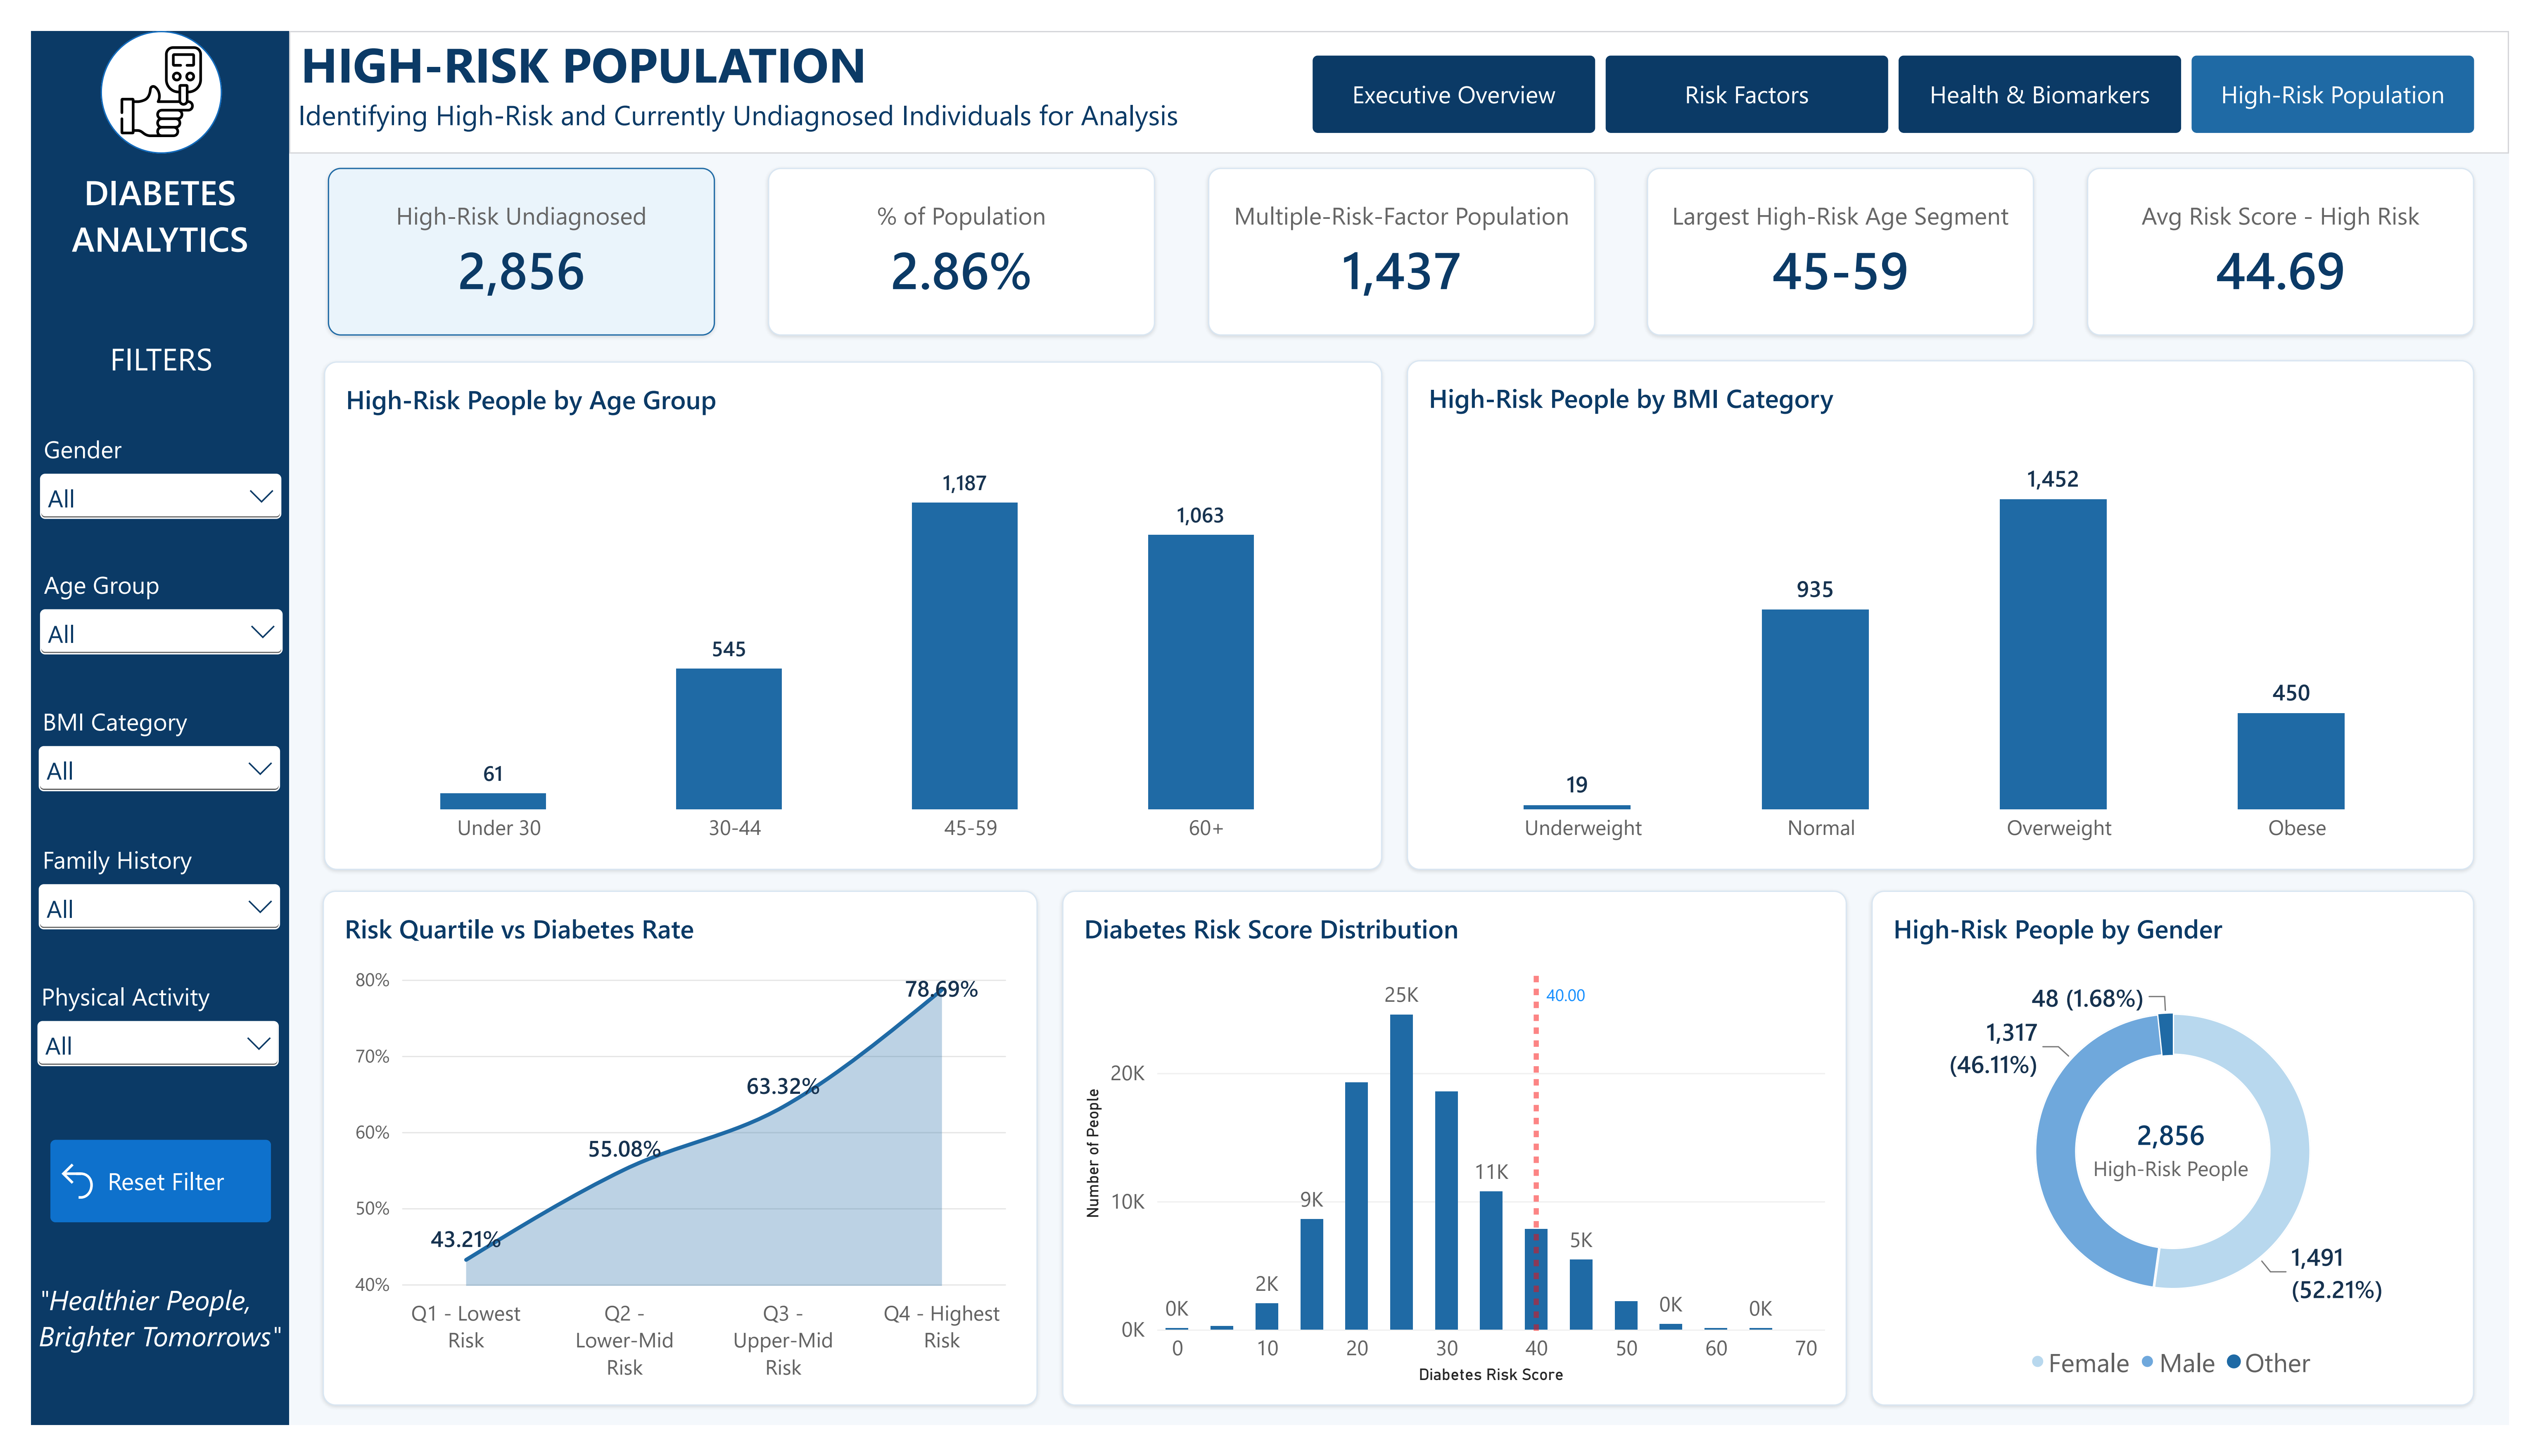

The dashboard page shown, as its layout file describes it:
{"tool":"powerbi","page":{"name":"High-Risk Population","canvas":[1920,1080],"ordinal":3},"visuals":[{"type":"shape","box":[200.3,0,1719.7,95],"z":0},{"type":"shape","box":[0,0,200.3,1079.7],"z":1000},{"type":"cardVisual","fields":{"Data":["_Measures.High-Risk Undiagnosed"]},"box":[230.3,106.5,300,130],"z":2000},{"type":"cardVisual","fields":{"Data":["_Measures.% of Population"]},"box":[571,106.5,300,130],"z":3000},{"type":"cardVisual","fields":{"Data":["_Measures.Multiple-Risk-Factor Population"]},"box":[911.6,106.5,300,130],"z":4000},{"type":"cardVisual","fields":{"Data":["_Measures.Avg Risk Score - High Risk"]},"box":[1592.9,106.5,300,130],"z":5000},{"type":"cardVisual","fields":{"Data":["_Measures.Largest High-Risk Age Segment"]},"box":[1252.3,106.5,300,130],"z":6000},{"type":"textbox","box":[209,0,687.1,50.3],"z":7000},{"type":"textbox","box":[207.1,50.3,739.4,34.8],"z":8000},{"type":"slicer","fields":{"Values":["DiabetesData.gender"]},"box":[1.5,311.3,197.4,71.6],"z":9000},{"type":"slicer","fields":{"Values":["DiabetesData.Age Group"]},"box":[2.1,416.2,198.2,72.3],"z":10000},{"type":"slicer","fields":{"Values":["DiabetesData.BMI GROUP"]},"box":[0.5,521.8,197.4,73.5],"z":11000},{"type":"slicer","fields":{"Values":["DiabetesData.Family History Diabetes Group"]},"box":[1,628.6,197.4,73.5],"z":12000},{"type":"actionButton","box":[15.5,859.4,170.3,63.9],"z":13000},{"type":"textbox","box":[5.8,967.7,195.5,65.8],"z":14000},{"type":"shape","box":[53.7,0,94,94.8],"z":15000},{"type":"pageNavigator","box":[992.9,19.4,900,60],"z":16000},{"type":"textbox","box":[2.1,237.4,198.2,32],"z":17000},{"type":"image","box":[66.1,12.4,69.7,69.7],"z":18000},{"type":"textbox","box":[9.7,106.5,180,94.8],"z":19000},{"type":"slicer","fields":{"Values":["DiabetesData.Physical Activity Group"]},"box":[0,735.5,197.4,73.5],"z":20000},{"type":"clusteredColumnChart","title":"High-Risk People by Age Group","fields":{"Category":["DiabetesData.Age Group"],"Y":["_Measures.High-Risk Undiagnosed"]},"box":[227.1,256,819.6,394.3],"z":21000},{"type":"clusteredColumnChart","title":"High-Risk People by BMI Category","fields":{"Category":["DiabetesData.BMI Category"],"Y":["_Measures.High-Risk Undiagnosed"]},"box":[1066.5,255.5,826.5,394.8],"z":22000},{"type":"areaChart","title":"Risk Quartile vs Diabetes Rate","fields":{"Category":["DiabetesData.Risk Quartile"],"Y":["_Measures.Diabetes Prevalence"]},"box":[226.5,665.8,553.5,398.7],"z":23000},{"type":"donutChart","title":"High-Risk People by Gender","fields":{"Category":["DiabetesData.gender"],"Y":["_Measures.High-Risk Undiagnosed"]},"box":[1426.5,665.8,466.5,398.7],"z":24000},{"type":"clusteredColumnChart","title":"Diabetes Risk Score Distribution","fields":{"Category":["DiabetesData.diabetes_risk_score (bins)"],"Y":["_Measures.Total People"]},"box":[799.4,665.8,607.7,398.7],"z":25000},{"type":"cardVisual","fields":{"Data":["_Measures.High-Risk Undiagnosed"]},"box":[1571.6,840,172.3,52.3],"z":25001}]}

Visuals, with their boxes on the page's 1920x1080 design canvas (x1, y1, x2, y2). These are canvas units, not pixel positions in the 2540x1456 screenshot, which may show the page scaled, cropped or inside an application window:
shape: {"x1": 200, "y1": 0, "x2": 1920, "y2": 95}
shape: {"x1": 0, "y1": 0, "x2": 200, "y2": 1080}
cardVisual - _Measures.High-Risk Undiagnosed: {"x1": 230, "y1": 106, "x2": 530, "y2": 236}
cardVisual - _Measures.% of Population: {"x1": 571, "y1": 106, "x2": 871, "y2": 236}
cardVisual - _Measures.Multiple-Risk-Factor Population: {"x1": 912, "y1": 106, "x2": 1212, "y2": 236}
cardVisual - _Measures.Avg Risk Score - High Risk: {"x1": 1593, "y1": 106, "x2": 1893, "y2": 236}
cardVisual - _Measures.Largest High-Risk Age Segment: {"x1": 1252, "y1": 106, "x2": 1552, "y2": 236}
textbox: {"x1": 209, "y1": 0, "x2": 896, "y2": 50}
textbox: {"x1": 207, "y1": 50, "x2": 946, "y2": 85}
slicer - DiabetesData.gender: {"x1": 2, "y1": 311, "x2": 199, "y2": 383}
slicer - DiabetesData.Age Group: {"x1": 2, "y1": 416, "x2": 200, "y2": 488}
slicer - DiabetesData.BMI GROUP: {"x1": 0, "y1": 522, "x2": 198, "y2": 595}
slicer - DiabetesData.Family History Diabetes Group: {"x1": 1, "y1": 629, "x2": 198, "y2": 702}
actionButton: {"x1": 16, "y1": 859, "x2": 186, "y2": 923}
textbox: {"x1": 6, "y1": 968, "x2": 201, "y2": 1034}
shape: {"x1": 54, "y1": 0, "x2": 148, "y2": 95}
pageNavigator: {"x1": 993, "y1": 19, "x2": 1893, "y2": 79}
textbox: {"x1": 2, "y1": 237, "x2": 200, "y2": 269}
image: {"x1": 66, "y1": 12, "x2": 136, "y2": 82}
textbox: {"x1": 10, "y1": 106, "x2": 190, "y2": 201}
slicer - DiabetesData.Physical Activity Group: {"x1": 0, "y1": 736, "x2": 197, "y2": 809}
"High-Risk People by Age Group" clusteredColumnChart: {"x1": 227, "y1": 256, "x2": 1047, "y2": 650}
"High-Risk People by BMI Category" clusteredColumnChart: {"x1": 1066, "y1": 256, "x2": 1893, "y2": 650}
"Risk Quartile vs Diabetes Rate" areaChart: {"x1": 226, "y1": 666, "x2": 780, "y2": 1064}
"High-Risk People by Gender" donutChart: {"x1": 1426, "y1": 666, "x2": 1893, "y2": 1064}
"Diabetes Risk Score Distribution" clusteredColumnChart: {"x1": 799, "y1": 666, "x2": 1407, "y2": 1064}
cardVisual - _Measures.High-Risk Undiagnosed: {"x1": 1572, "y1": 840, "x2": 1744, "y2": 892}
